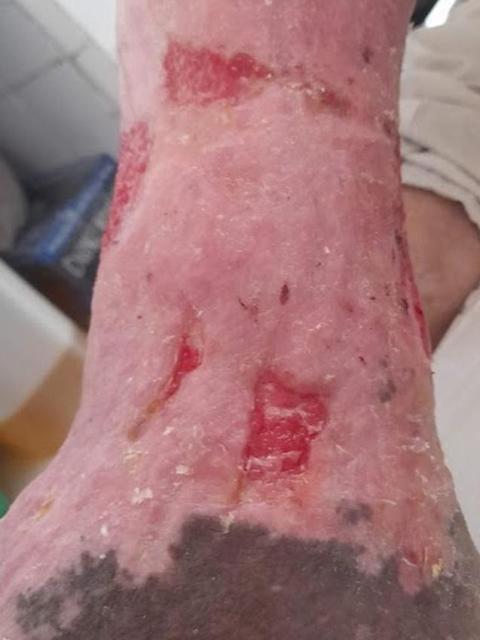wound: (240, 355, 332, 489), (126, 317, 209, 443), (163, 40, 305, 108), (101, 121, 151, 252)
